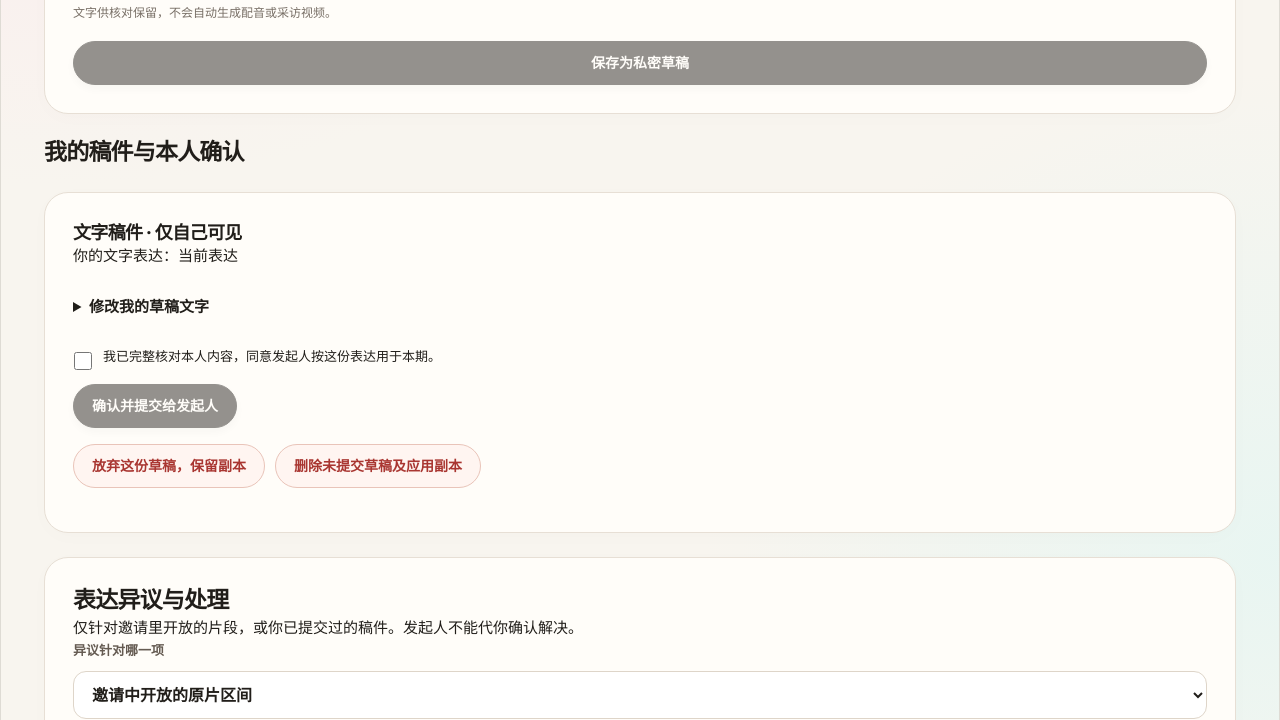
Scenario: participant open confirmation revalidation › cancels a pending submit dialog after a polling response changes wording
(page scrolled)
Click the checkbox labelled "我已完整核对本人内容，同意发起人按这份表达用于本期。" at (83,361), box [73,352,93,370]
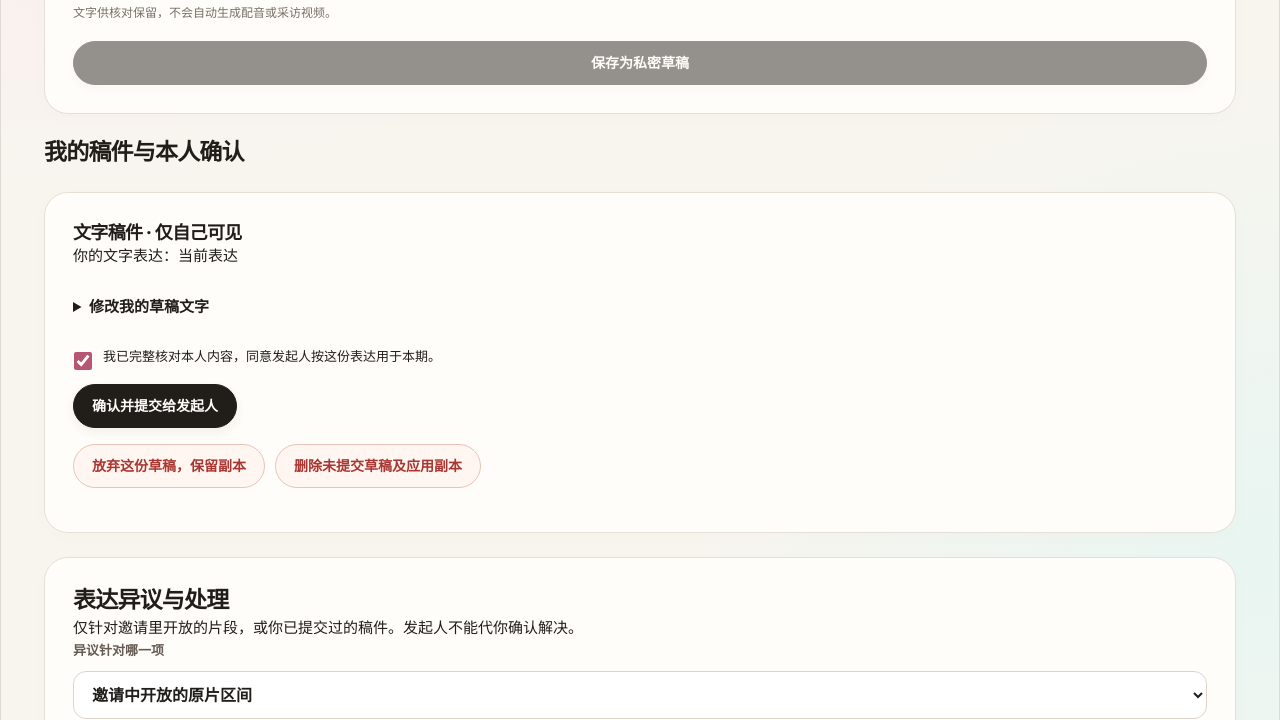
Click the button "确认并提交给发起人" at (155,406), box [73,384,237,428]
Wait 2000 ms
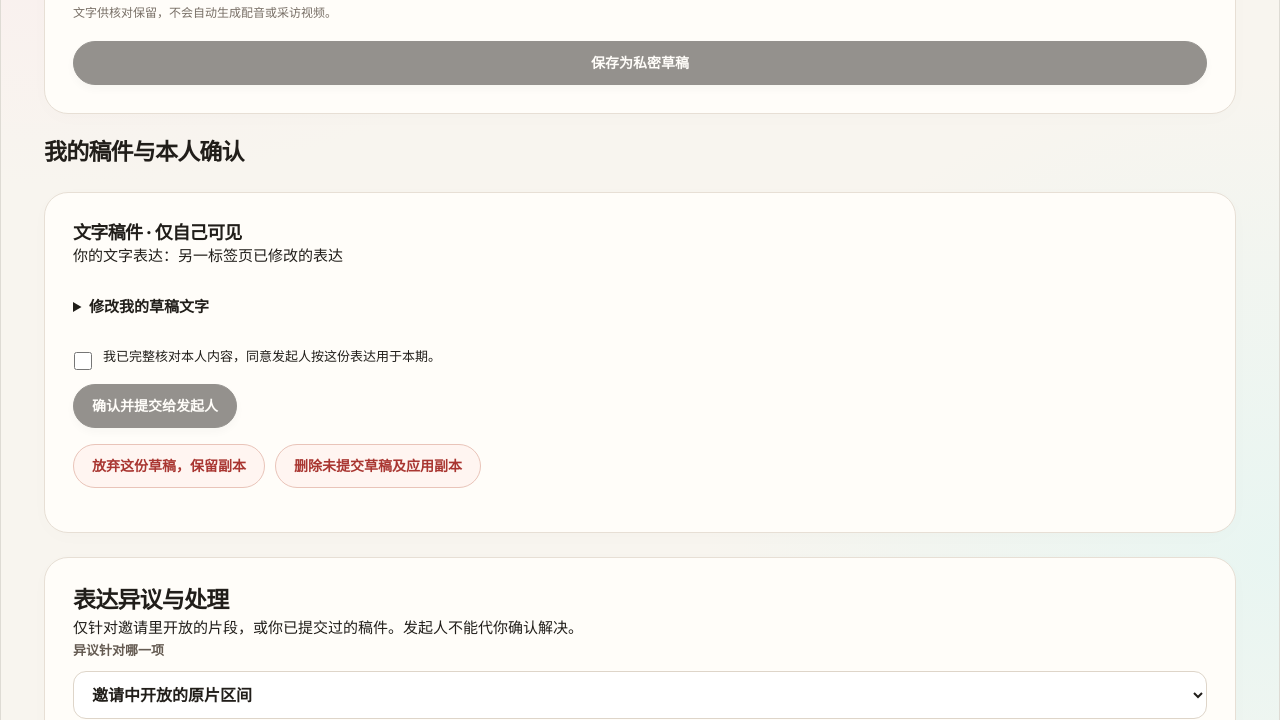
Check: the checkbox labelled "我已完整核对本人内容，同意发起人按这份表达用于本期。" is not checked, box [73,352,93,370]
Check: the button "确认并提交给发起人" is disabled, box [73,384,237,428]
